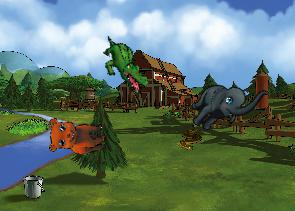bear: (44, 109, 108, 159)
crocodile: (90, 34, 159, 96)
elephant: (183, 60, 269, 149)
